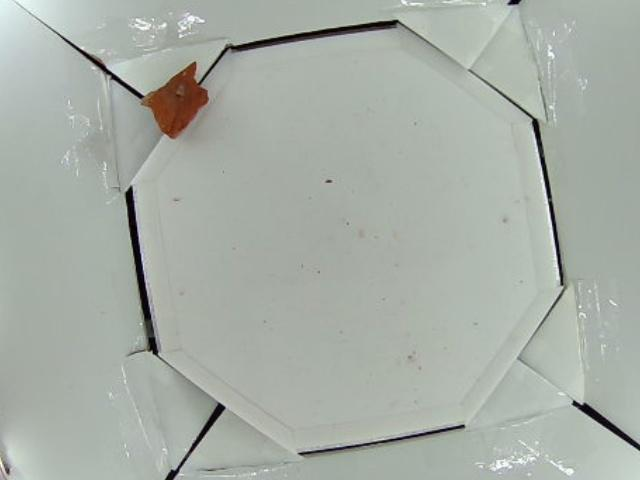Brisk: (139, 63, 209, 138)
